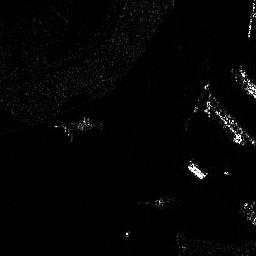ship: (203, 99, 245, 147), (185, 161, 207, 180)
